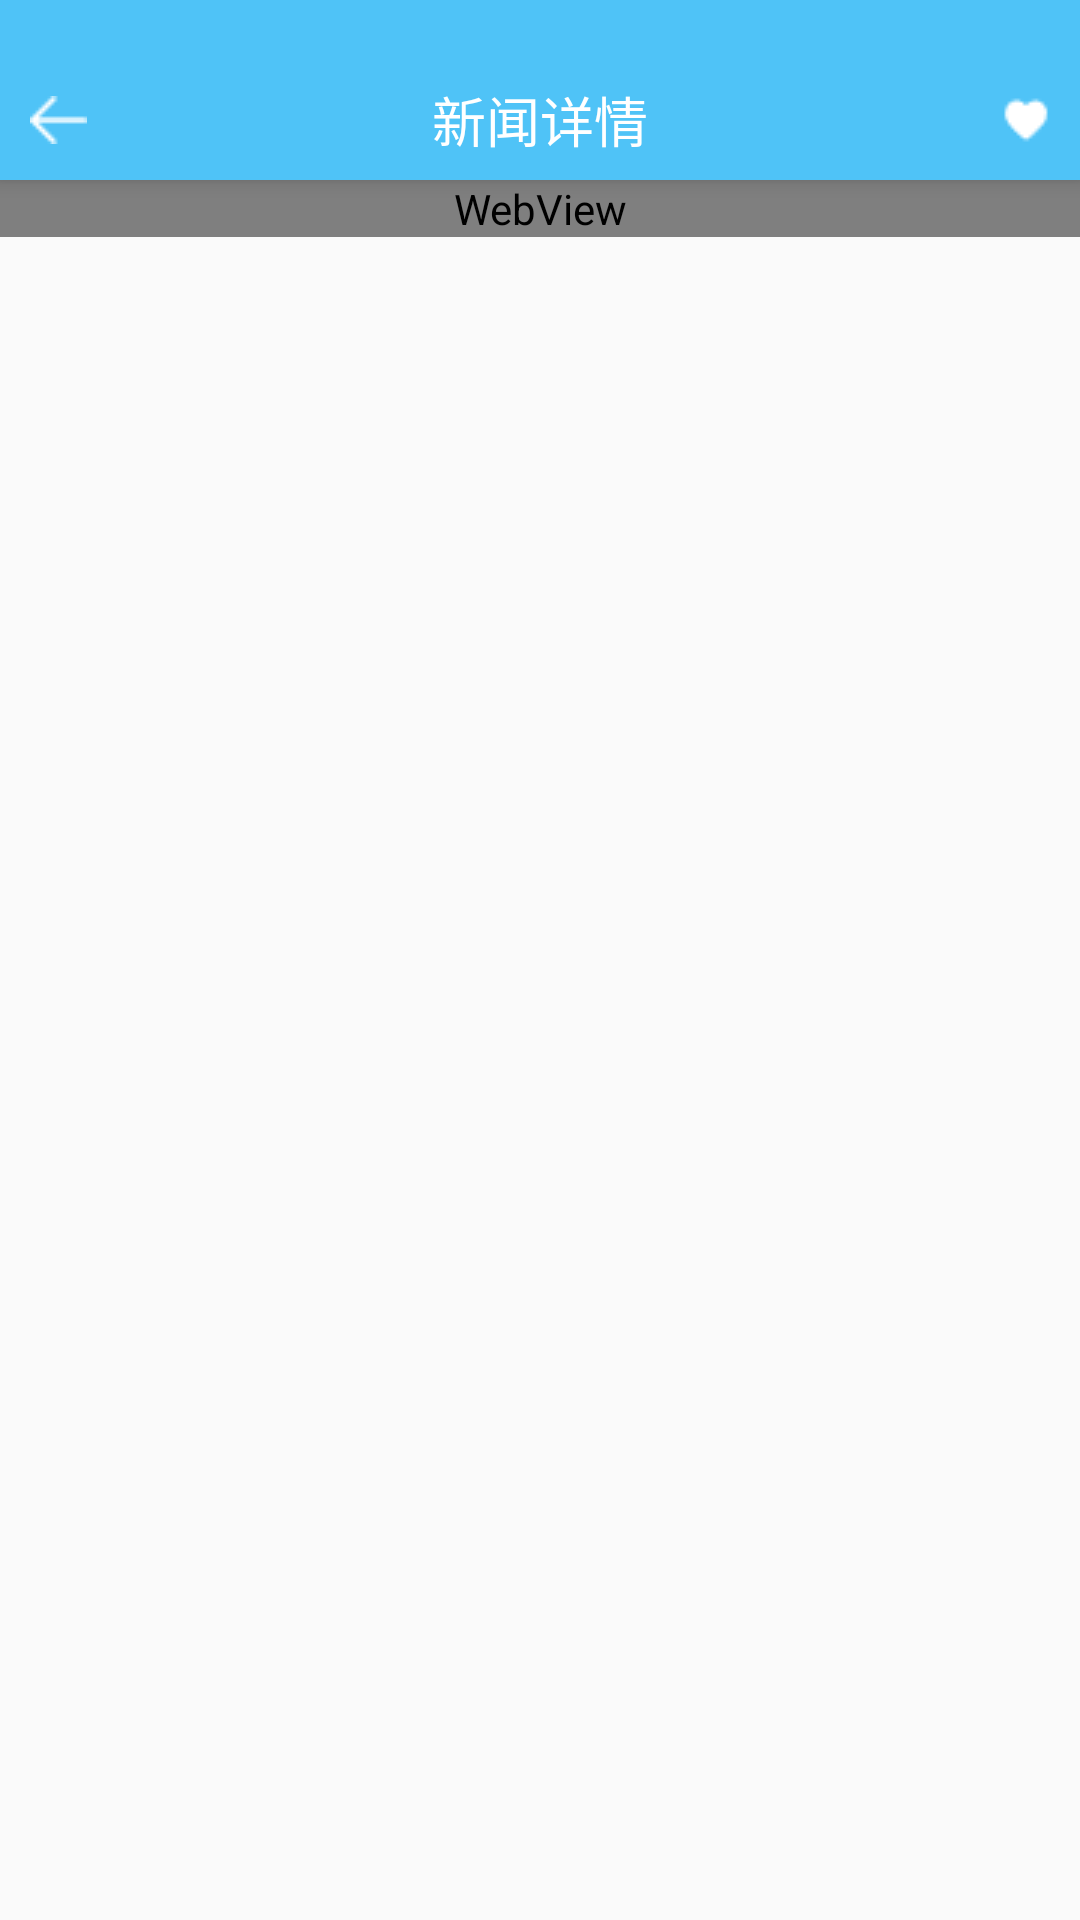

Point at icon controls on the screen. Image size 1080 x 1920, points as point (x, y).
back: point (58, 120)
collect: point (1026, 119)
